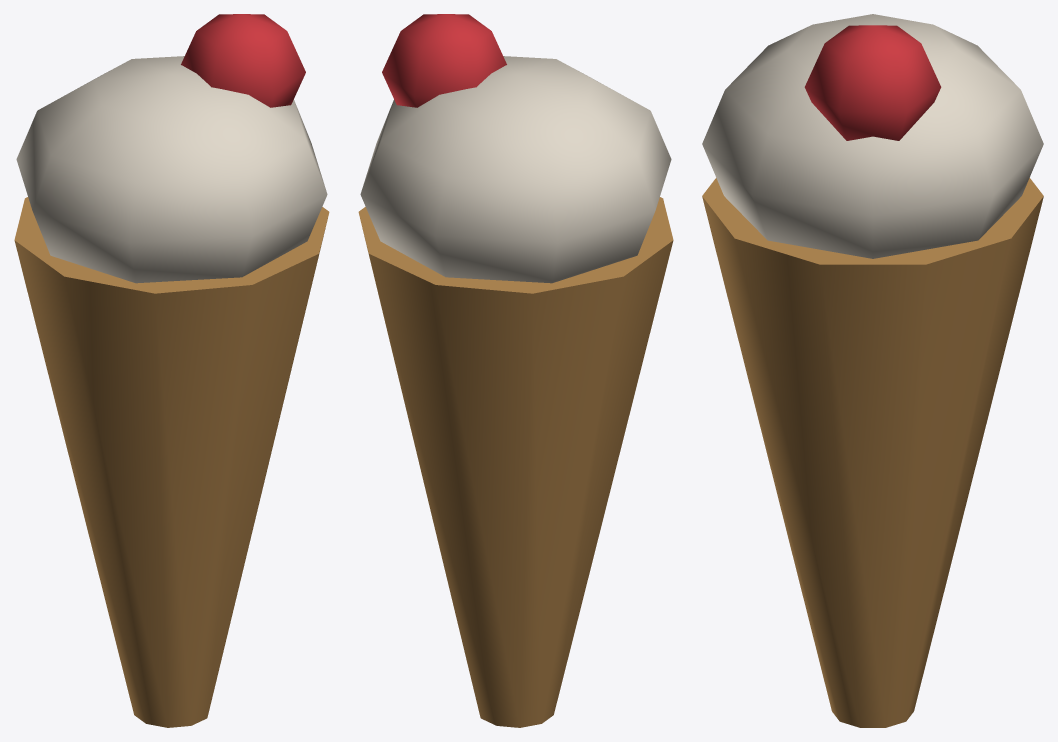
File: item_crepe.glb
The picture shows the model from 3 angles, left to right: view 1: azimuth 30°, elevation 25°; view 2: azimuth 150°, elevation 25°; view 3: azimuth 270°, elevation 25°; orthographic projection. The views are drawn at different scales.
Visible parts, largest first — view 1: item_crepe; view 2: item_crepe; view 3: item_crepe.
Part boxes in pixels (<box>): item_crepe: <box>14,14,329,727</box>; item_crepe: <box>358,14,673,727</box>; item_crepe: <box>702,14,1043,727</box>.
Size of the model in its own units: 0.1 by 0.2332 by 0.1.
